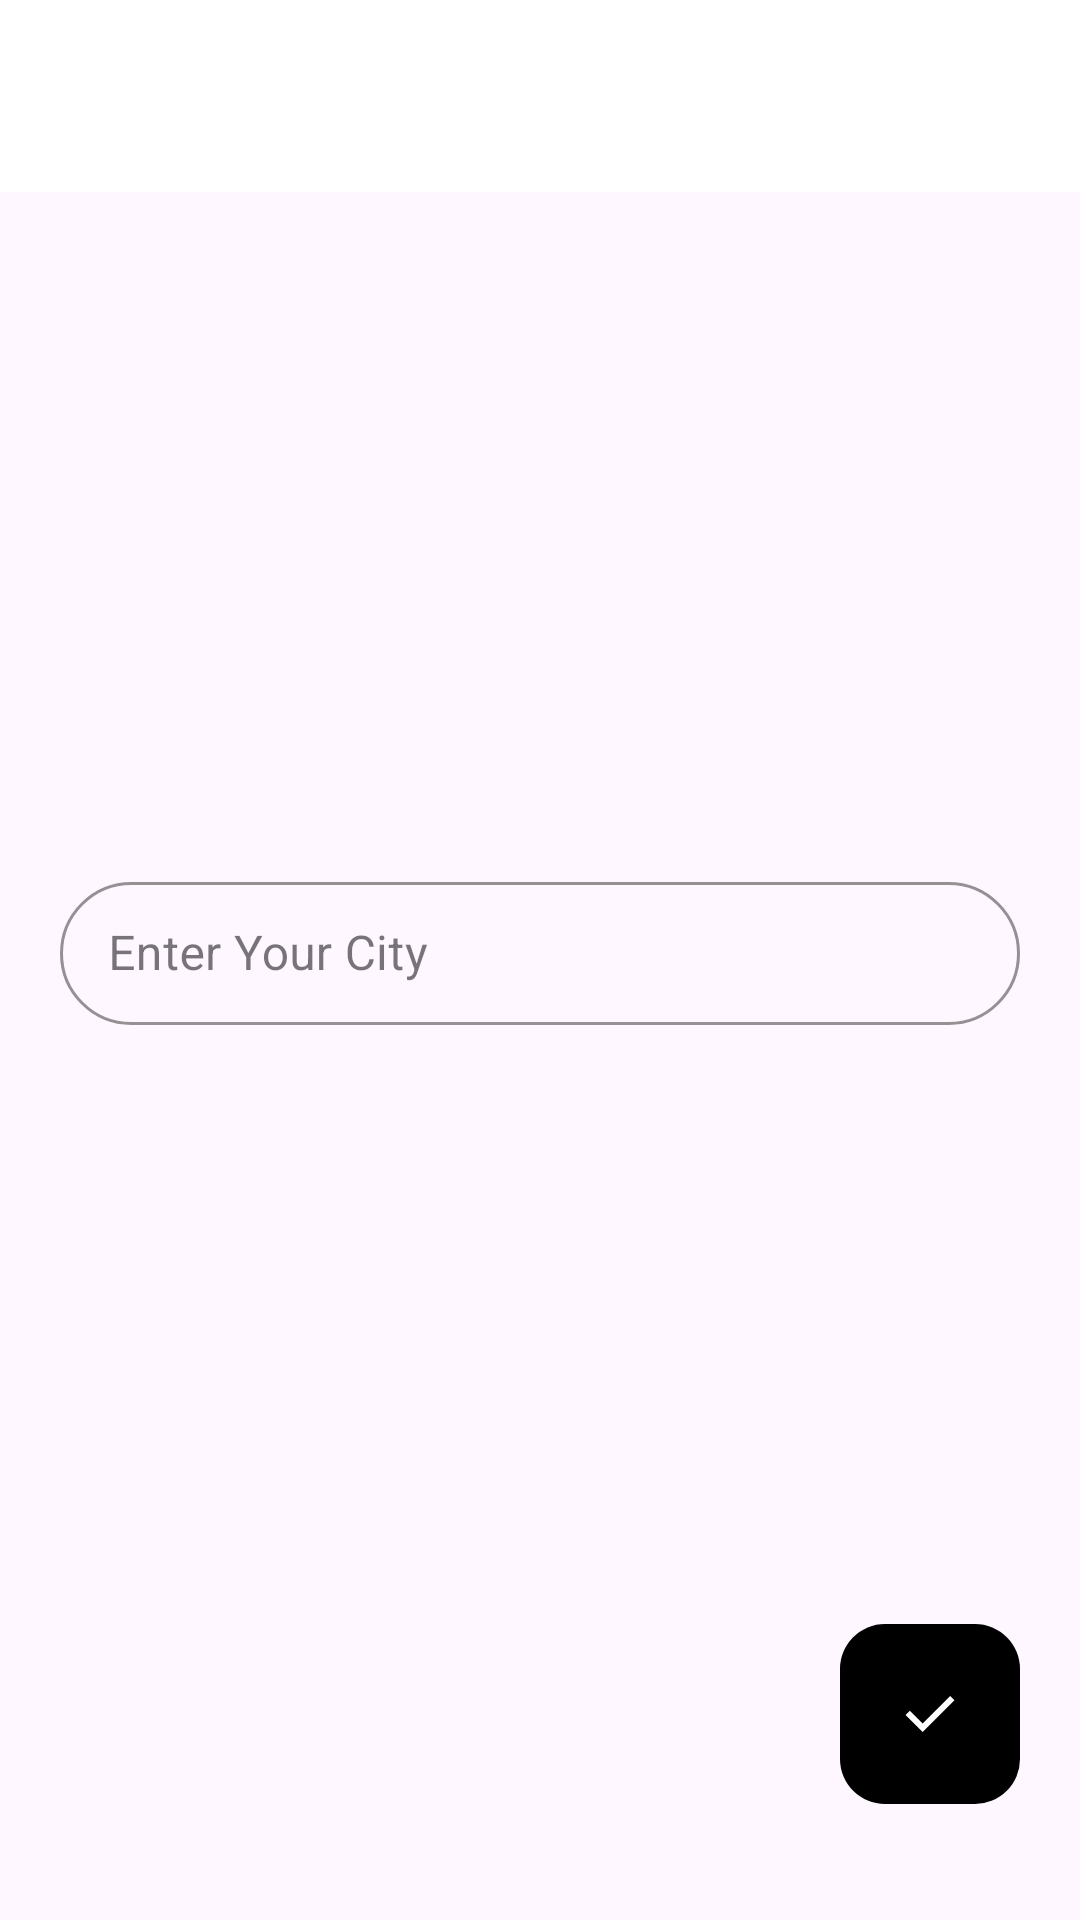

Locate icon controls on the screen. Image size 1080×1920, boxes as (x1, y1, x2, y2).
done: (840, 1624, 1020, 1804)
